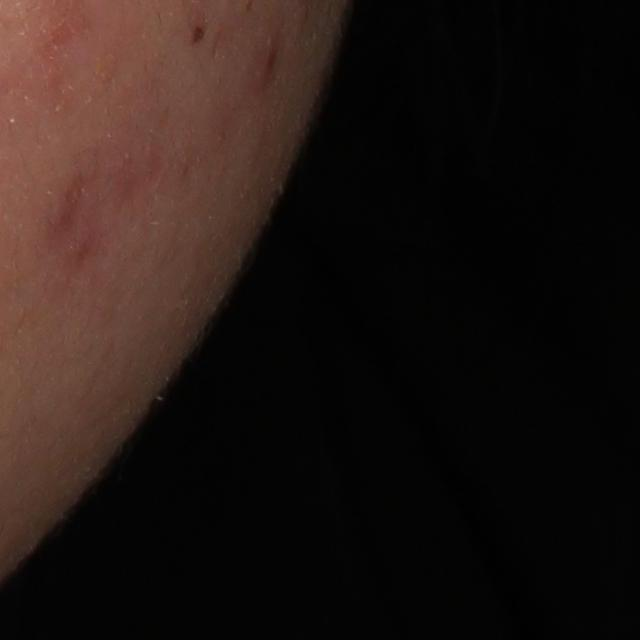nevus: (191, 25, 208, 45)
papule: (247, 35, 284, 97)
